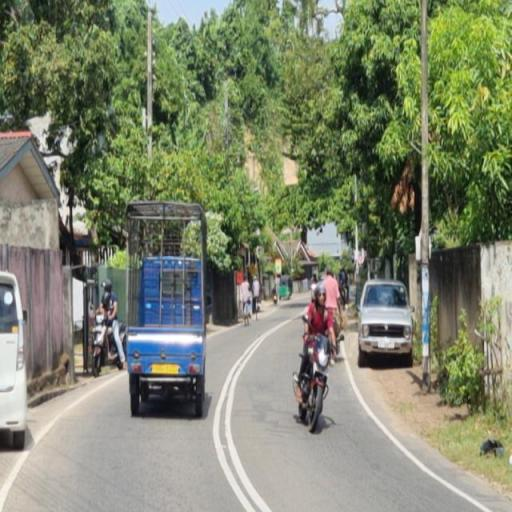double_white_line: (212, 314, 274, 512)
